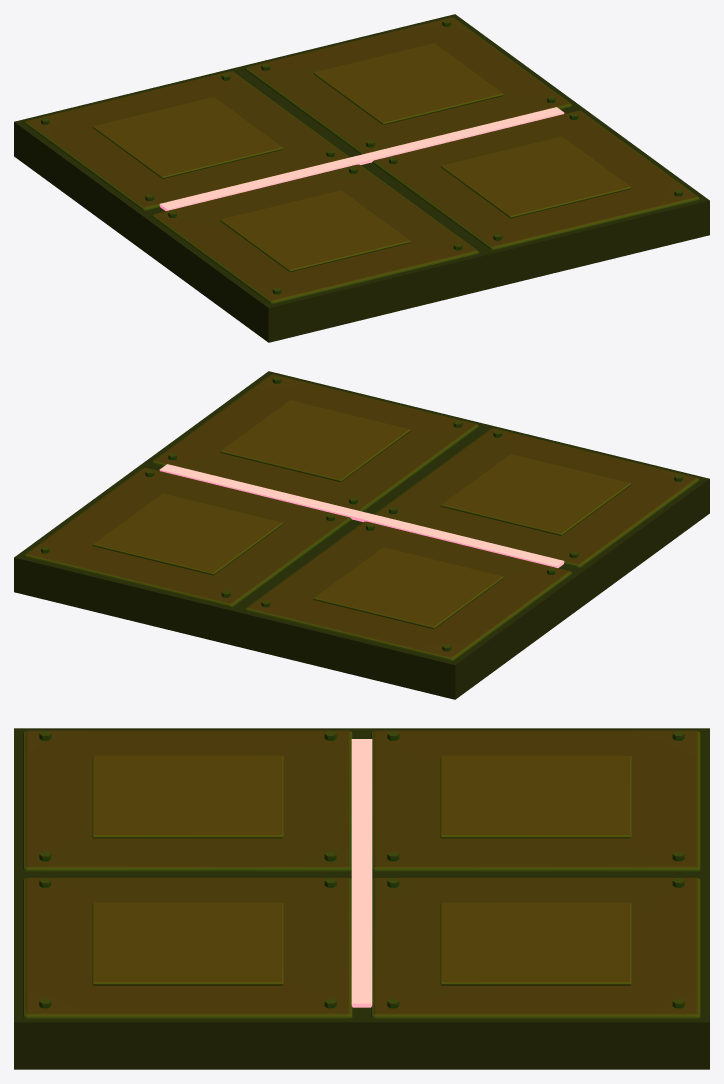
Rendered from floor_plate_lit.glb.
3 renders of one model, top to bottom at view 1: azimuth 30°, elevation 25°; view 2: azimuth 150°, elevation 25°; view 3: azimuth 270°, elevation 25°, orthographic. The views are drawn at different scales.
Parts seen in each view (by area): view 1: floor_plate_lit; view 2: floor_plate_lit; view 3: floor_plate_lit.
Boxes of the visible parts, x1=… form: floor_plate_lit: x1=14, y1=14, x2=709, y2=342; floor_plate_lit: x1=14, y1=371, x2=709, y2=699; floor_plate_lit: x1=14, y1=728, x2=709, y2=1069.
Bounding box in the file's own units: 4 × 0.35 × 4.
